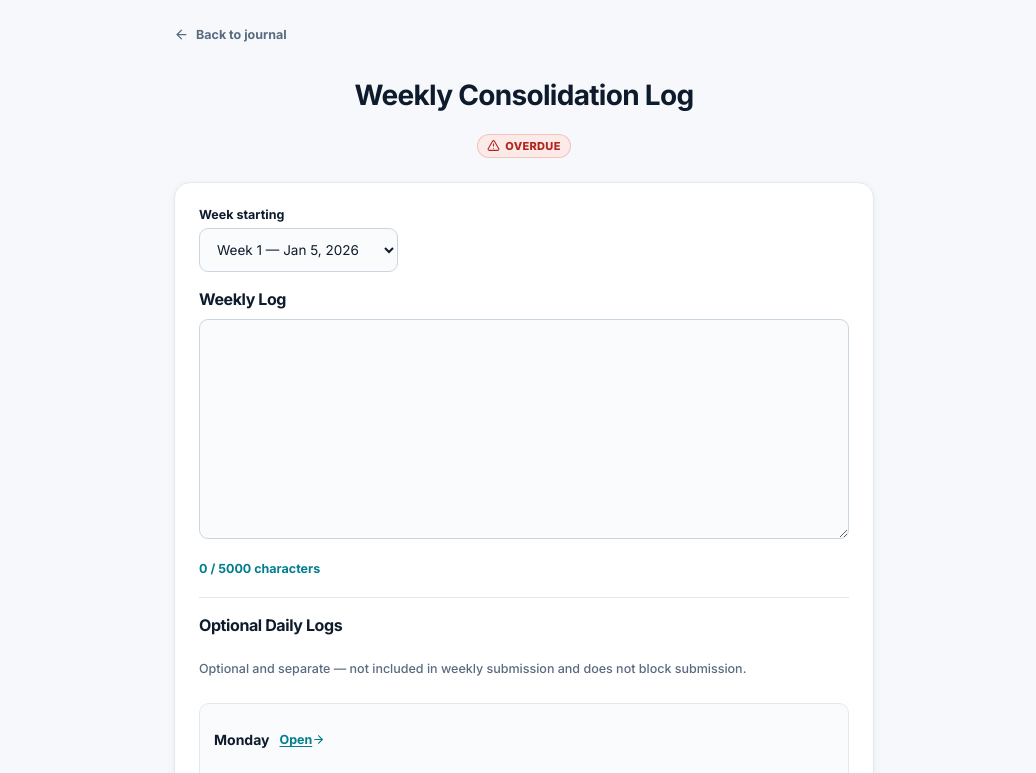
Test: WeekPage week switcher › autosaves a pending weekly summary edit when switching weeks
Expected: the heading "Optional Daily Logs" is shown, [199,615,342,635]
Type "Reflection before switching." into the text box named "Weekly Log".
click(524, 429); type("Reflection before switching.")  # box [199,319,849,539]
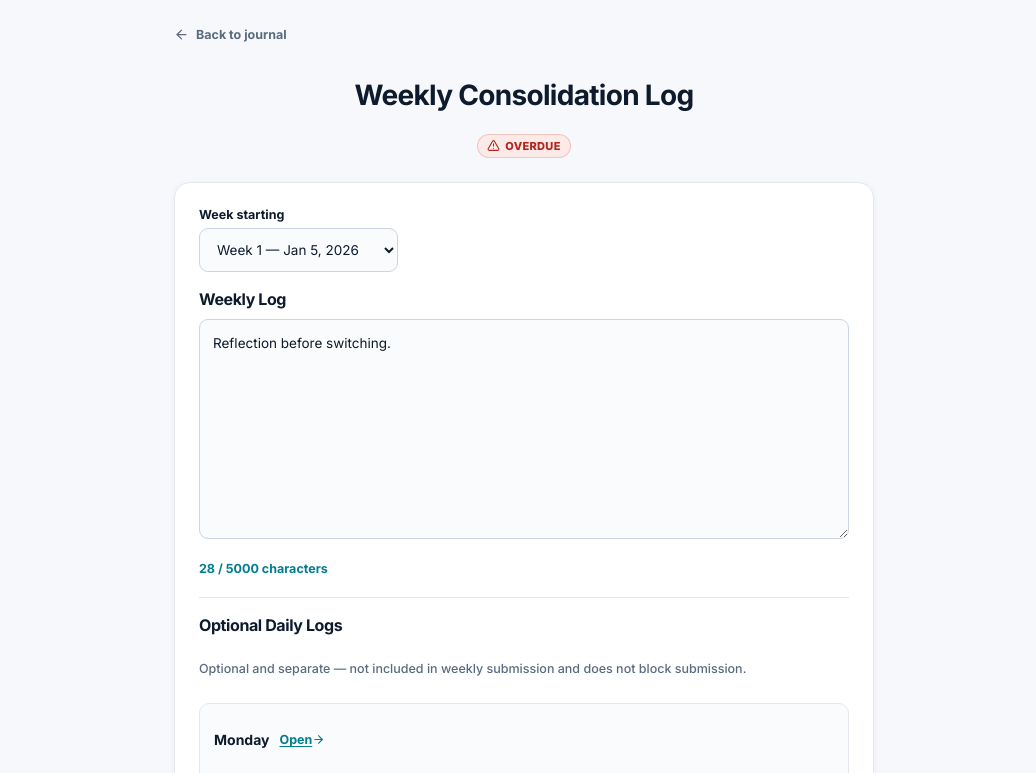
// Switch before the debounce fires: the unmount flush must persist the edit.
Select "Week 2 — Jan 12, 2026" in the dropdown labelled "Week starting" at x=298, y=250, box [199,228,398,272]
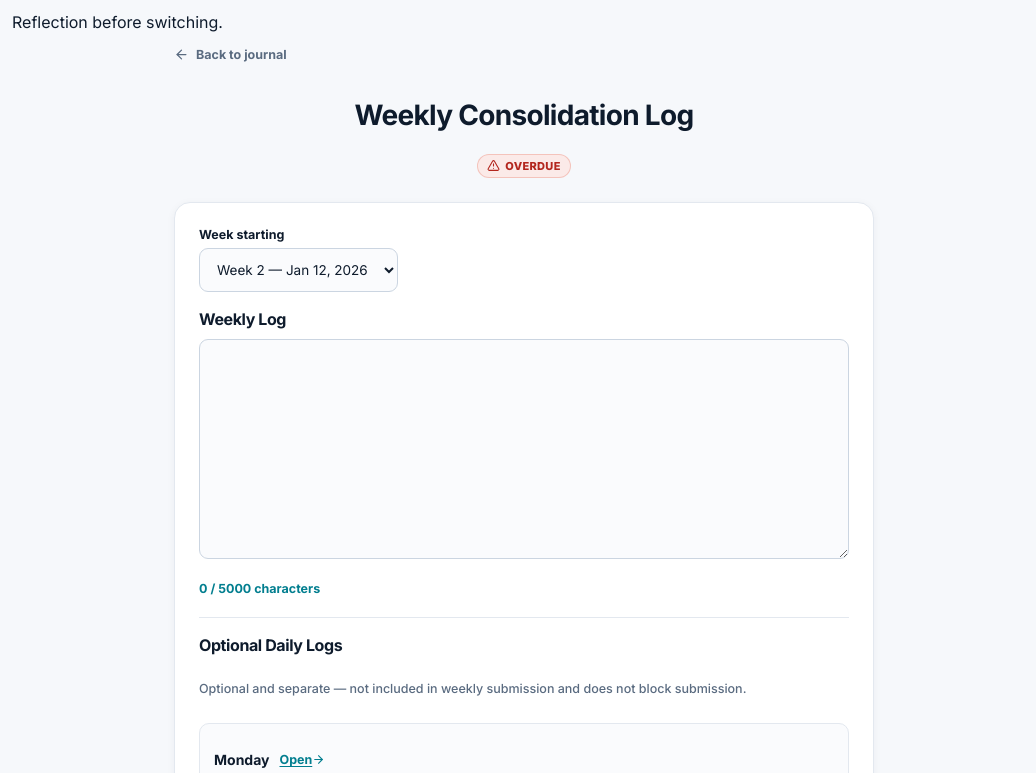
Now the text with test id "draft-probe" reads "Reflection before switching.", box [12,12,223,32]
